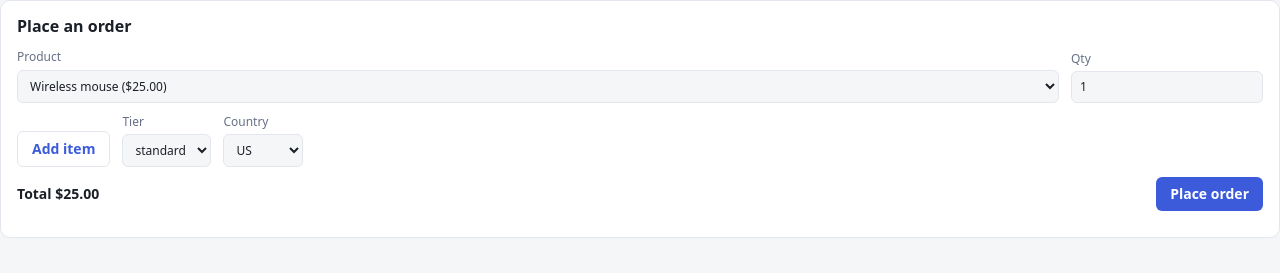
Scenario: OrderForm › warns when the total is over the card limit
The image size is (1280, 273).
Expected: the text "declined by the payment service" is not shown
Step 1. Select "Laptop 14\" ($1,299.00)" in the dropdown labelled "Product" → (538, 86), box [17,70,1059,103]
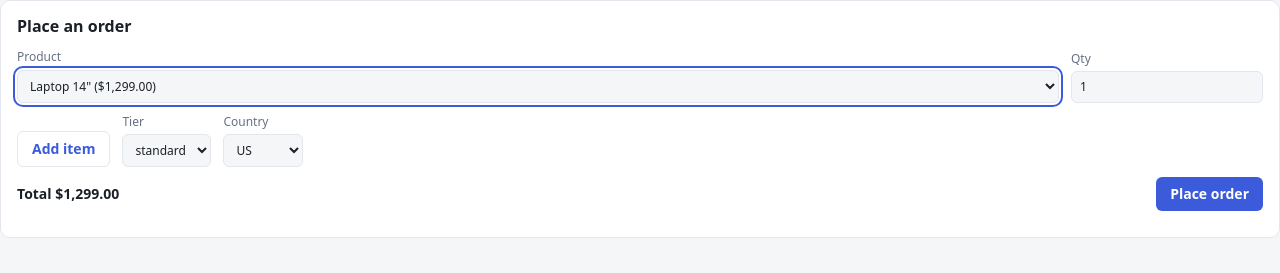
Step 2. Replace the text in the number field labelled "Qty" with "2" → (1167, 87), box [1071,71,1263,103]
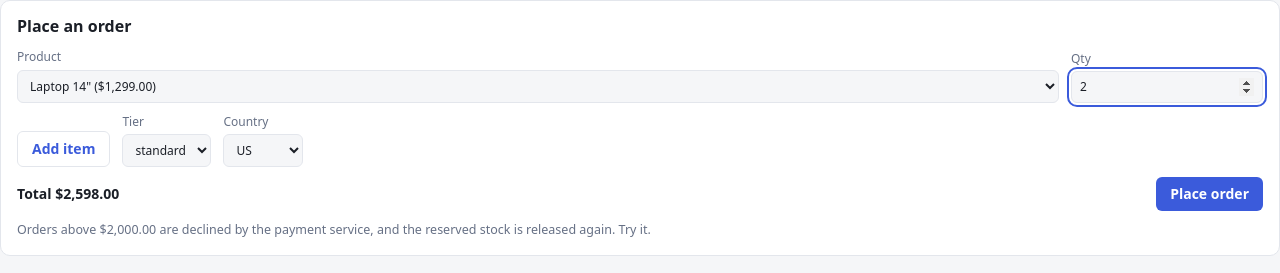
Expected: the text "declined by the payment service" is shown, [156,221,651,238]
